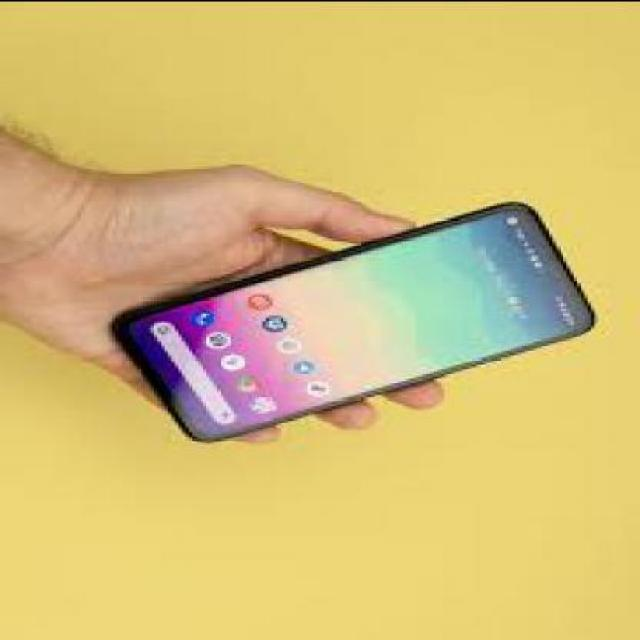phone: (102, 200, 602, 443)
